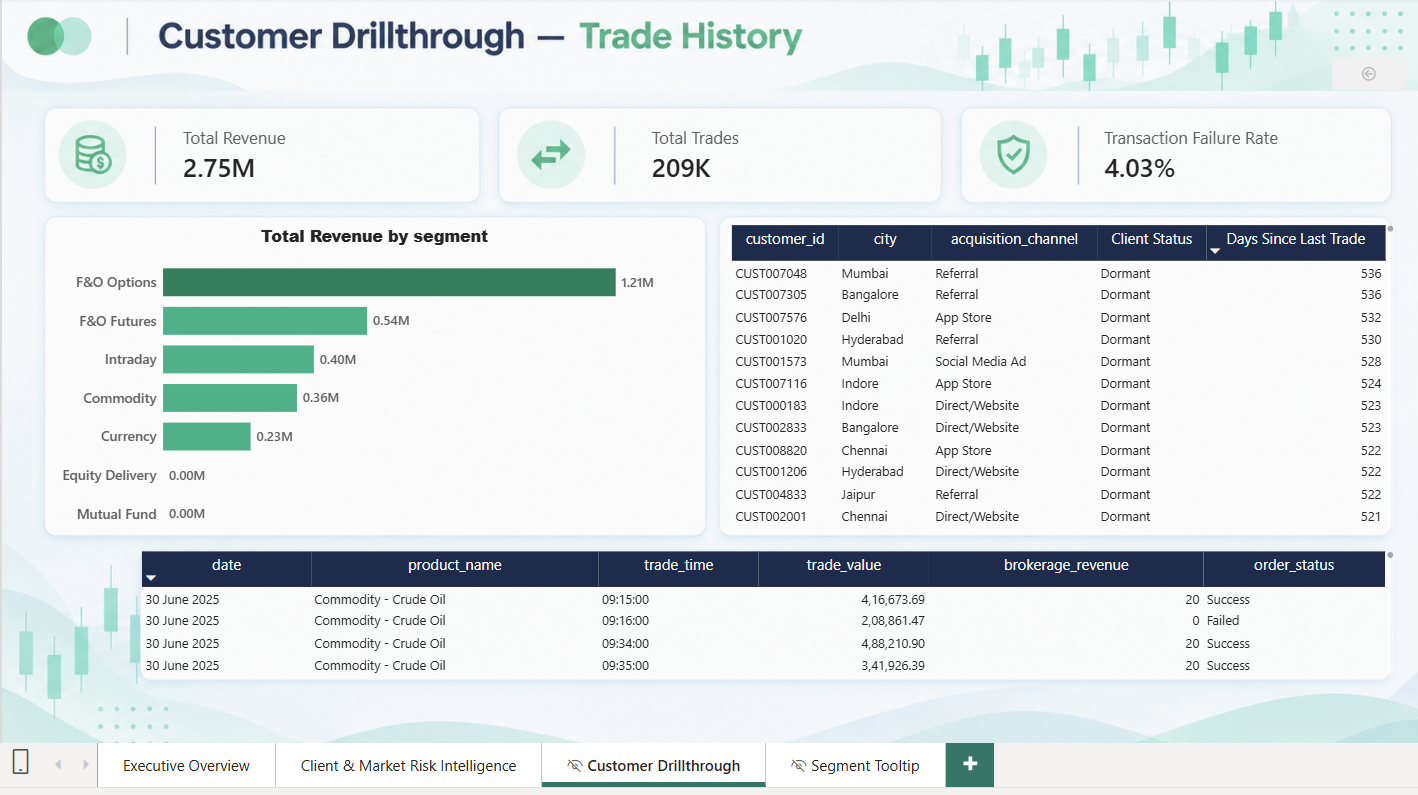

The page's visual inventory and layout, read from the dashboard file:
{"tool":"powerbi","page":{"name":"Customer Drillthrough","canvas":[1920,1080],"ordinal":2},"visuals":[{"type":"actionButton","box":[1804.2,88.7,99.5,45.2],"z":0},{"type":"cardVisual","fields":{"Data":["Measures (2).Total Revenue"]},"box":[213.5,161.1,434.3,124.9],"z":1000},{"type":"cardVisual","fields":{"Data":["Measures (2).Total Trades"]},"box":[848.7,161.1,430.7,124.9],"z":2000},{"type":"cardVisual","fields":{"Data":["Measures (2).Transaction Failure Rate"]},"box":[1462.2,161.1,407.2,124.9],"z":3000},{"type":"barChart","fields":{"Category":["Dim_Product.segment"],"Y":["Measures (2).Total Revenue"]},"box":[65.1,302.2,881.3,441.6],"z":4000},{"type":"tableEx","fields":{"Values":["Date Table.date","Dim_Product.product_name","Fact_Trades.trade_time","Fact_Trades.trade_value","Fact_Trades.brokerage_revenue","Fact_Trades.order_status"]},"box":[173.7,743.8,1730,199.1],"z":5000},{"type":"tableEx","fields":{"Values":["Dim_Customer.customer_id","Dim_Customer.city","Dim_Customer.acquisition_channel","Dim_Customer.Client Status","Dim_Customer.Days Since Last Trade"]},"box":[973.6,302.2,930.2,441.6],"z":6000}]}

Visuals, with their boxes on the page's 1920x1080 design canvas (x1, y1, x2, y2). These are canvas units, not pixel positions in the 1418x795 screenshot, which may show the page scaled, cropped or inside an application window:
actionButton: bbox=[1804, 89, 1904, 134]
cardVisual - Measures (2).Total Revenue: bbox=[214, 161, 648, 286]
cardVisual - Measures (2).Total Trades: bbox=[849, 161, 1279, 286]
cardVisual - Measures (2).Transaction Failure Rate: bbox=[1462, 161, 1869, 286]
barChart - Dim_Product.segment x Measures (2).Total Revenue: bbox=[65, 302, 946, 744]
tableEx - Date Table.date x Dim_Product.product_name: bbox=[174, 744, 1904, 943]
tableEx - Dim_Customer.customer_id x Dim_Customer.city: bbox=[974, 302, 1904, 744]
